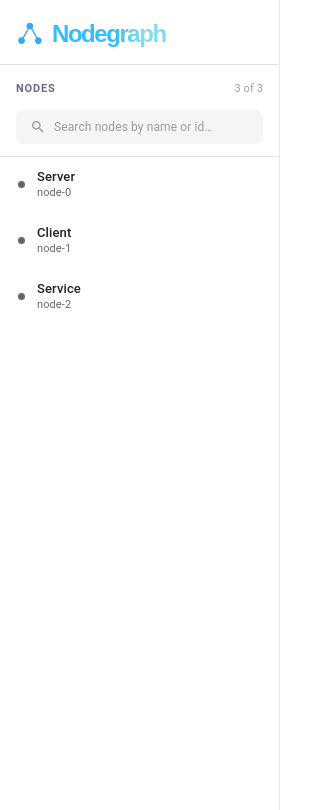
Test: SidePanel component › search › should update the count to match filtered results
In the field with placeholder "Search nodes by name or id…": (158, 127) [54,110,263,144], type "er"
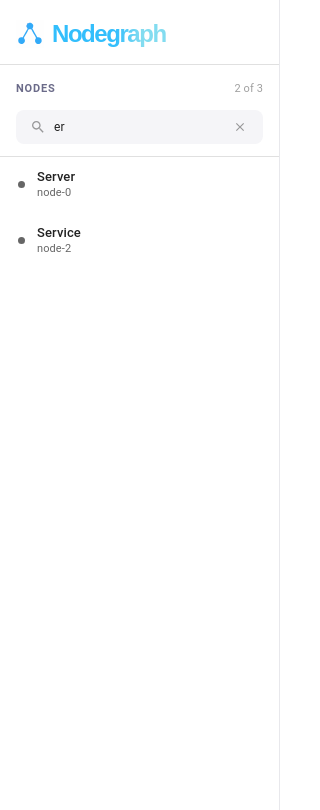
Expected: the text "2 of 3" is shown, [234,81,263,98]
